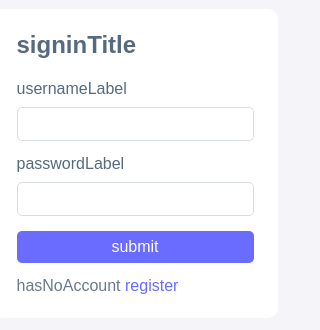
it: SignIn › check has erros
Click the button "submit".
click(135, 246)  # box [16,230,254,262]
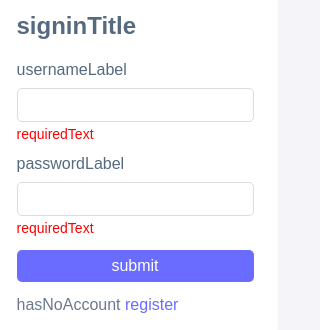
Expected: the text "requiredText" is shown 2 times, [16,126,94,142]; [16,220,94,236]
